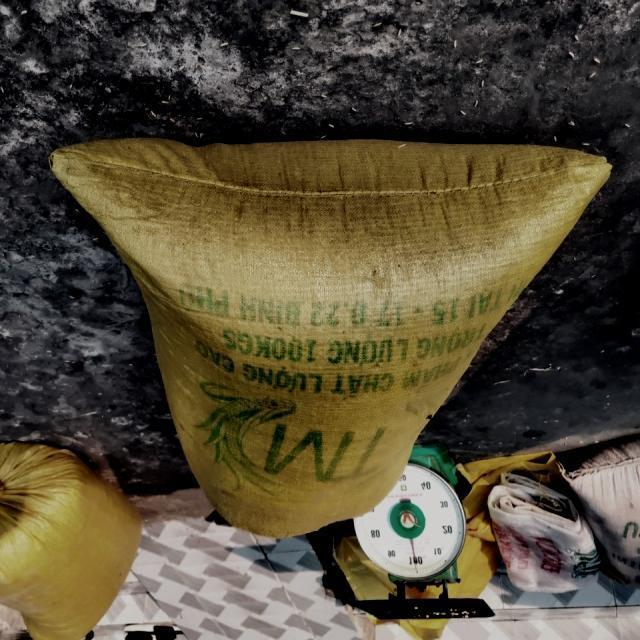gunny_bag: (49, 139, 611, 538), (0, 444, 140, 640)
